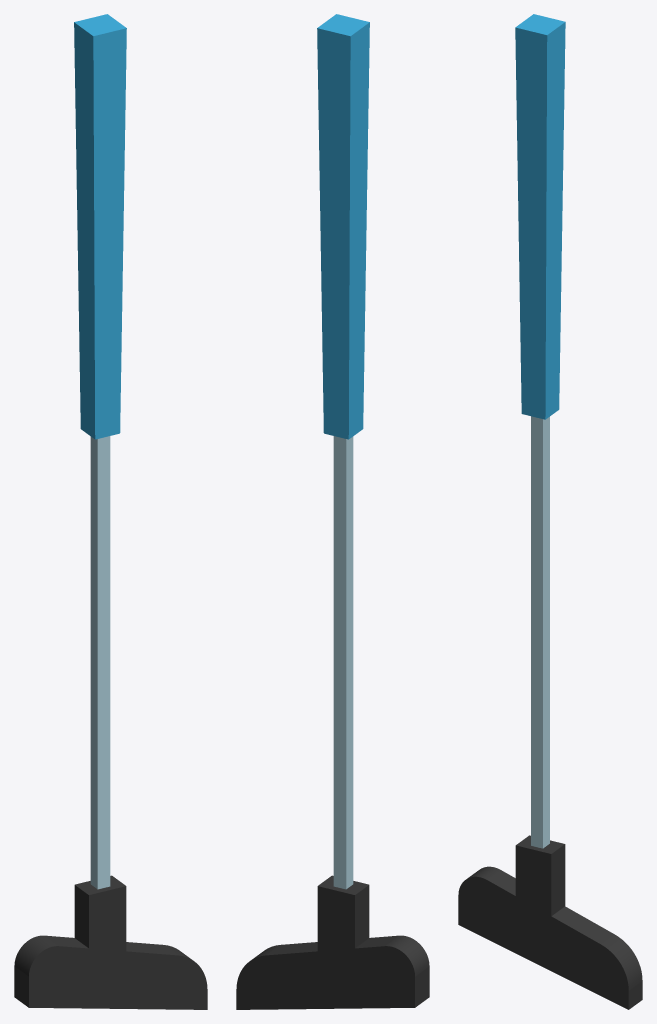
Rendered from club_blue.dae.
3 views of the same model, side by side, from view 1: azimuth 30°, elevation 25°; view 2: azimuth 150°, elevation 25°; view 3: azimuth 330°, elevation 25° (orthographic). The views are drawn at different scales.
Visible parts, largest first — view 1: club_blue; view 2: club_blue; view 3: club_blue.
Part boxes in pixels (bbox=[...]): club_blue: bbox=[14, 14, 207, 1009]; club_blue: bbox=[236, 14, 429, 1009]; club_blue: bbox=[458, 14, 642, 1009].
Size of the model in its own units: 0.1844 by 0.9899 by 0.0345.
